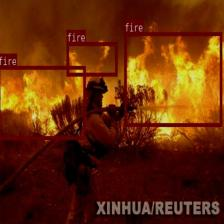fire: (124, 32, 221, 126), (0, 66, 85, 138), (66, 42, 117, 75)
